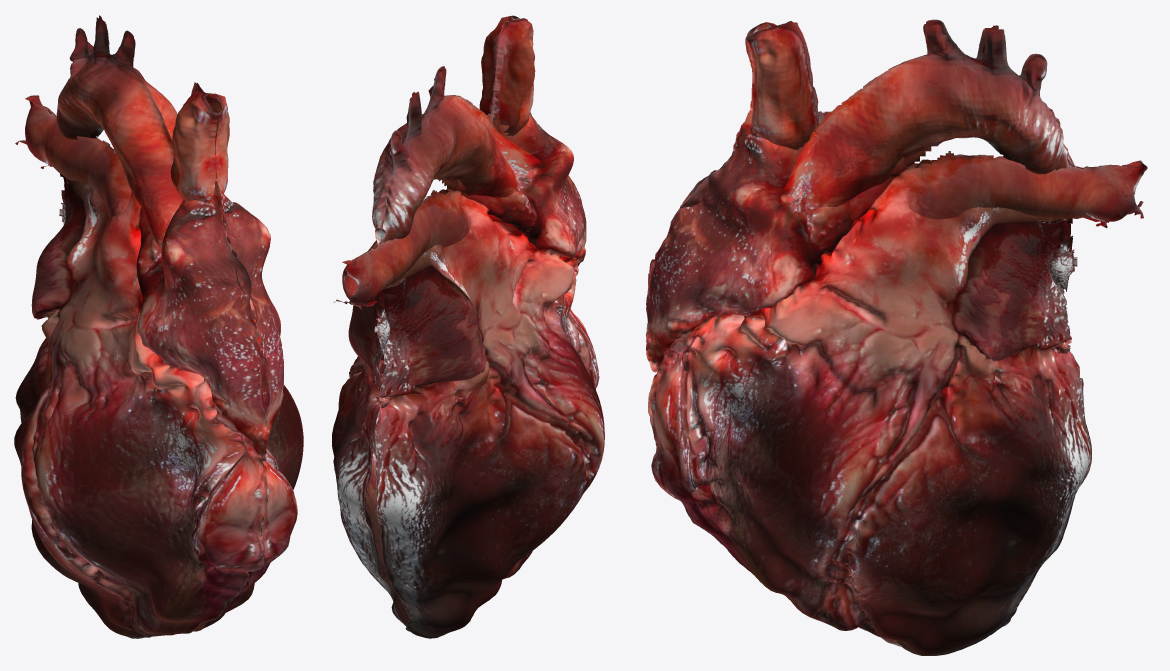
The model's file is HEART .fbx.
3 renders of one model, left to right at view 1: azimuth 30°, elevation 25°; view 2: azimuth 150°, elevation 25°; view 3: azimuth 270°, elevation 25°, orthographic. The views are drawn at different scales.
Visible parts, largest first — view 1: hearkt; view 2: hearkt; view 3: hearkt.
Part boxes in pixels (bbox=[...]): hearkt: bbox=[14, 15, 303, 638]; hearkt: bbox=[332, 15, 604, 638]; hearkt: bbox=[645, 19, 1147, 655].
Size of the model in its own units: 201 by 450 by 332.
Materials: 1 (1 with a texture image).
